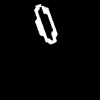chain: (35, 4, 56, 43)
